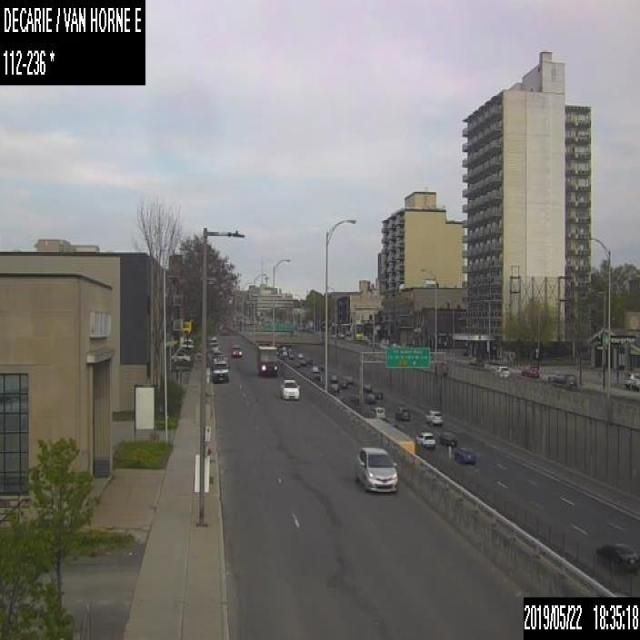vehicle: (352, 444, 398, 492), (362, 417, 413, 453), (594, 541, 639, 575), (255, 342, 278, 374), (279, 377, 299, 399), (547, 369, 575, 384), (210, 359, 228, 382), (453, 446, 477, 462), (393, 402, 412, 422), (415, 430, 435, 448), (438, 430, 457, 446), (424, 409, 442, 425), (623, 372, 639, 389), (521, 363, 539, 376), (170, 350, 190, 361), (370, 406, 385, 419), (211, 350, 225, 361), (469, 356, 484, 366), (326, 382, 338, 393), (496, 366, 509, 376), (231, 344, 241, 356), (312, 372, 322, 382), (209, 341, 218, 351), (373, 389, 383, 398), (364, 393, 374, 402), (343, 373, 352, 382), (338, 378, 346, 388), (329, 372, 337, 382), (210, 333, 218, 342), (363, 383, 371, 391), (298, 358, 306, 365), (306, 356, 312, 363), (312, 364, 318, 371), (288, 352, 294, 358), (297, 352, 302, 358), (294, 362, 299, 367)
